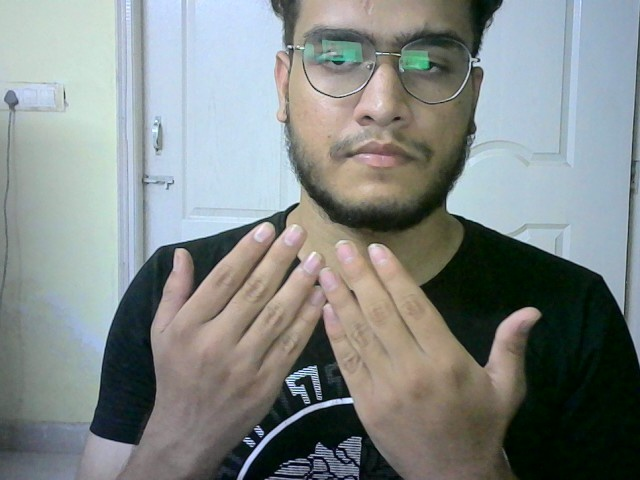Thank You: (150, 219, 547, 456)
